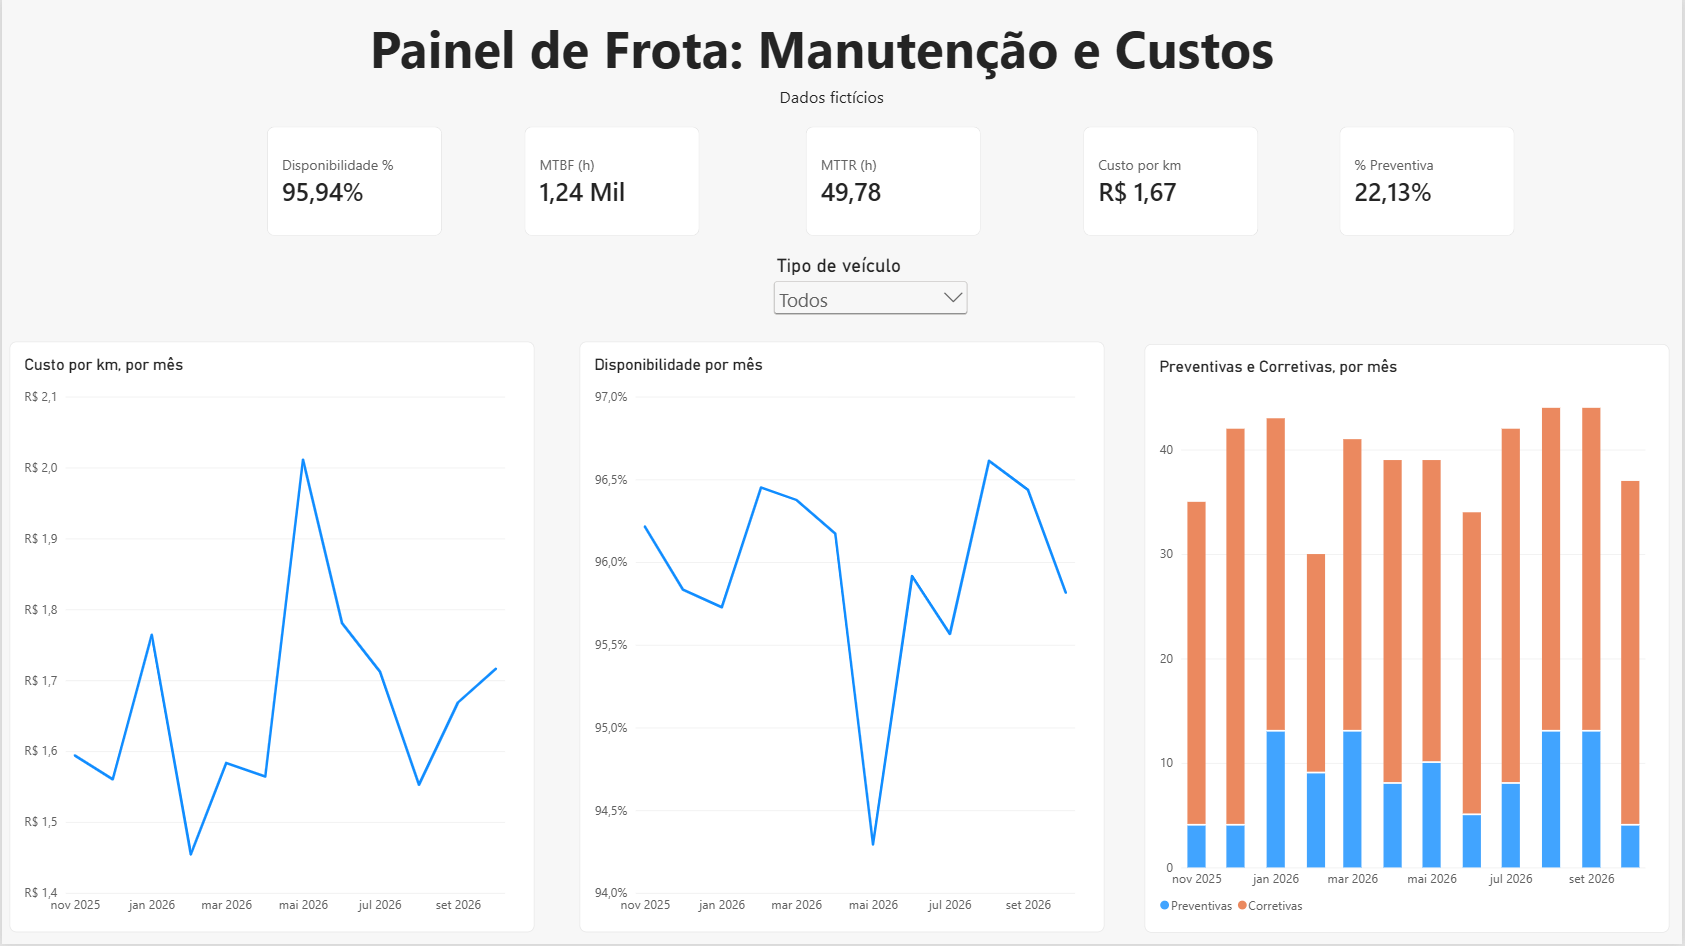

The page's visual inventory and layout, read from the dashboard file:
{"tool":"powerbi","page":{"name":"Visão geral","canvas":[1920,1080],"ordinal":0},"visuals":[{"type":"textbox","box":[411.2,16.2,1051.3,82.2],"z":0},{"type":"textbox","box":[888.8,98.8,143.8,31.2],"z":1000},{"type":"cardVisual","fields":{"Data":["_Medidas.Disponibilidade %"]},"box":[302.5,145,200,125],"z":2000},{"type":"cardVisual","fields":{"Data":["_Medidas.MTBF (h)"]},"box":[597.5,145,200,125],"z":3000},{"type":"cardVisual","fields":{"Data":["_Medidas.MTTR (h)"]},"box":[918.8,145,200,125],"z":4000},{"type":"cardVisual","fields":{"Data":["_Medidas.Custo por km"]},"box":[1236.2,145,200,125],"z":5000},{"type":"cardVisual","fields":{"Data":["_Medidas.% Preventiva"]},"box":[1528.8,145,200,125],"z":6000},{"type":"lineChart","title":"Disponibilidade  por mês","fields":{"Category":["dim_calendario.ano_mes"],"Y":["_Medidas.Disponibilidade %"]},"box":[660,391.2,600,675],"z":7000},{"type":"columnChart","title":"Preventivas e Corretivas, por mês","fields":{"Category":["dim_calendario.ano_mes"],"Y":["_Medidas.Preventivas","_Medidas.Corretivas"]},"box":[1306.2,393.8,600,673],"z":8000},{"type":"lineChart","title":"Custo por km, por mês","fields":{"Category":["dim_calendario.ano_mes"],"Y":["_Medidas.Custo por km"]},"box":[8.8,391.2,600,675],"z":9000},{"type":"slicer","fields":{"Values":["dim_veiculo.tipo"]},"box":[877.1,291.4,231.2,103.8],"z":10000}]}

Visuals, with their boxes in screenshot pixels (x1, y1, x2, y2), scaled from the page's 1920x1080 canvas onto the 1685x946 screenshot:
textbox: locate(361, 14, 1283, 86)
textbox: locate(780, 87, 906, 114)
cardVisual - _Medidas.Disponibilidade %: locate(265, 127, 441, 236)
cardVisual - _Medidas.MTBF (h): locate(524, 127, 700, 236)
cardVisual - _Medidas.MTTR (h): locate(806, 127, 982, 236)
cardVisual - _Medidas.Custo por km: locate(1085, 127, 1260, 236)
cardVisual - _Medidas.% Preventiva: locate(1342, 127, 1517, 236)
"Disponibilidade  por mês" lineChart: locate(579, 343, 1106, 934)
"Preventivas e Corretivas, por mês" columnChart: locate(1146, 345, 1673, 934)
"Custo por km, por mês" lineChart: locate(8, 343, 534, 934)
slicer - dim_veiculo.tipo: locate(770, 255, 973, 346)
